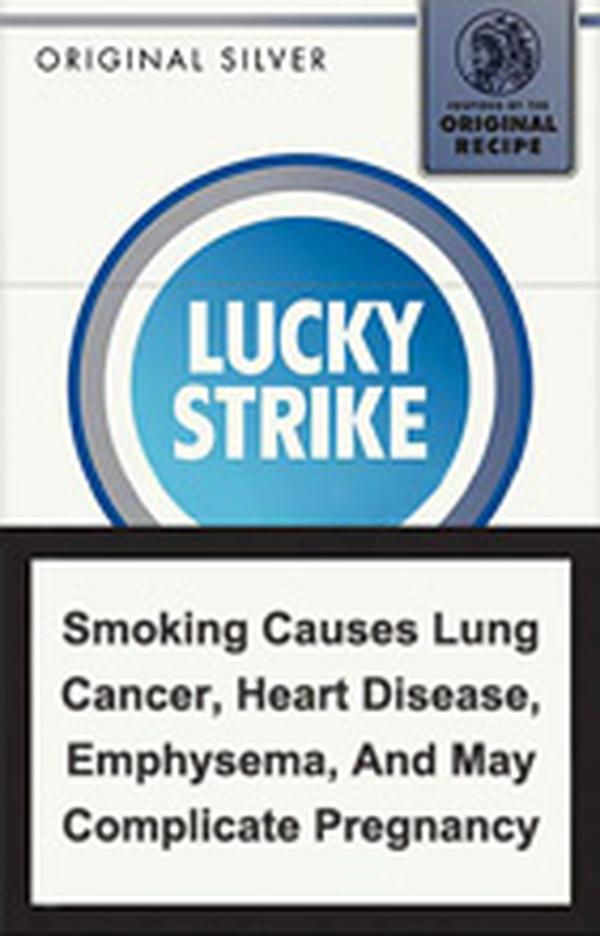lucky_strike_blue: (6, 4, 600, 934)
